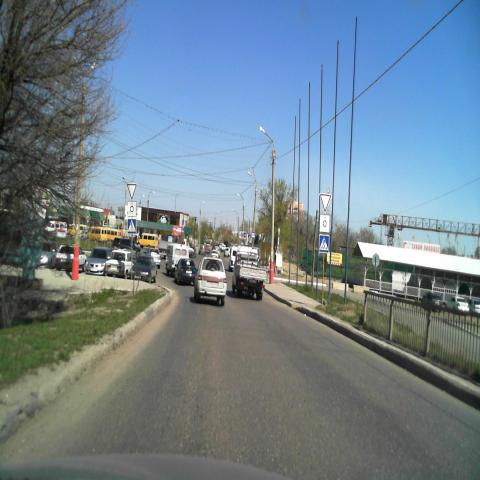8_13_1: (320, 214, 330, 232), (128, 200, 137, 216)
